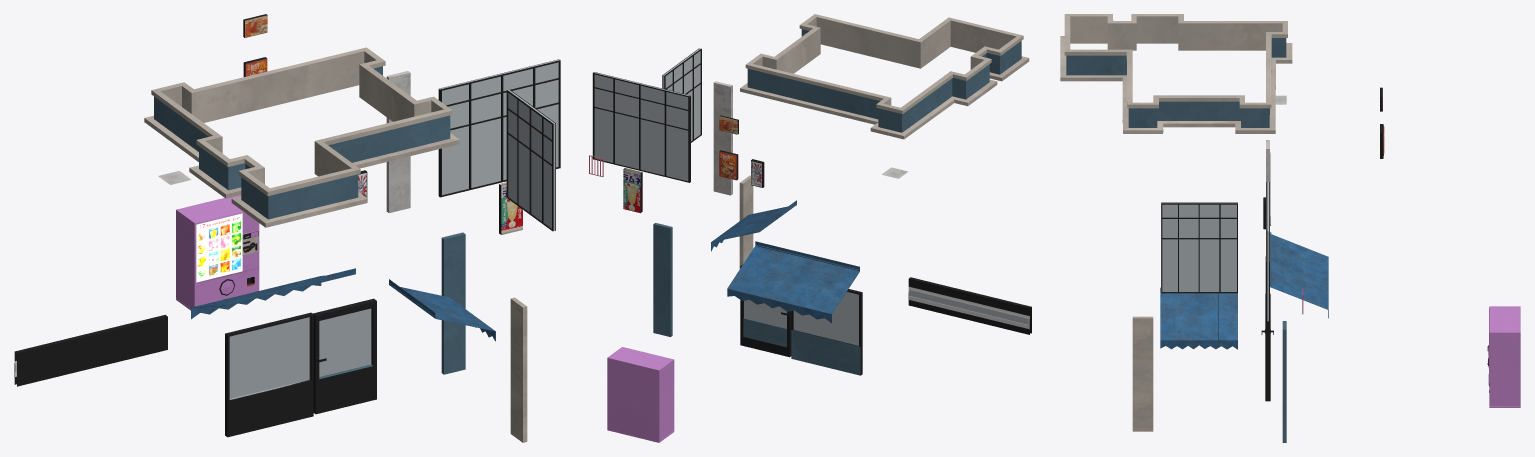
File: vmNhouse.fbx
The picture shows the model from 3 angles, left to right: view 1: azimuth 30°, elevation 25°; view 2: azimuth 150°, elevation 25°; view 3: azimuth 270°, elevation 25°; orthographic projection. The views are drawn at different scales.
Parts seen in each view (by area): view 1: houseTop1, windowPannel3, vM, lightPannel1, glassPannel, windowPannel2, glassFrame3, door1, doorGlass, wallPannel54, wallPanels1, strips3 (+5 smaller); view 2: houseTop1, windowPannel3, shelterLarge1, vM, lightPannel1, glassFrame3, wallPannel54, glassPannel, strips3, wallPannel52, door1, windowPannel2 (+6 smaller); view 3: houseTop1, windowPannel2, shelterSmall1, vM, shelterLarge1, wallPanels1, strips2, wallPannel54.
Part boxes in pixels (x1,y1,x2,y2): houseTop1: (144,47,459,227); windowPannel3: (439,59,560,195); vM: (176,195,259,310); lightPannel1: (14,314,167,386); glassPannel: (229,317,310,399); windowPannel2: (508,90,555,230); glassFrame3: (225,312,313,437); door1: (313,298,376,414); doorGlass: (319,308,371,377); wallPannel54: (441,232,465,374); wallPanels1: (510,297,527,442); strips3: (438,59,560,197); houseTop1: (740,14,1029,139); windowPannel3: (592,72,690,181); shelterLarge1: (727,241,859,323); vM: (607,347,674,442); lightPannel1: (908,277,1031,334); glassFrame3: (791,289,862,375); wallPannel54: (653,223,672,336); glassPannel: (793,292,858,345); strips3: (593,72,690,182); wallPannel52: (713,81,732,195); door1: (740,264,791,357); windowPannel2: (663,48,700,140); houseTop1: (1060,14,1292,133); windowPannel2: (1161,202,1237,292); shelterSmall1: (1160,287,1237,349); vM: (1488,306,1520,407); shelterLarge1: (1270,232,1328,318); wallPanels1: (1132,316,1153,431); strips2: (1161,202,1237,293); wallPannel54: (1282,321,1286,442).
Bounding box in the file's own units: 1263 × 782 × 1105.
